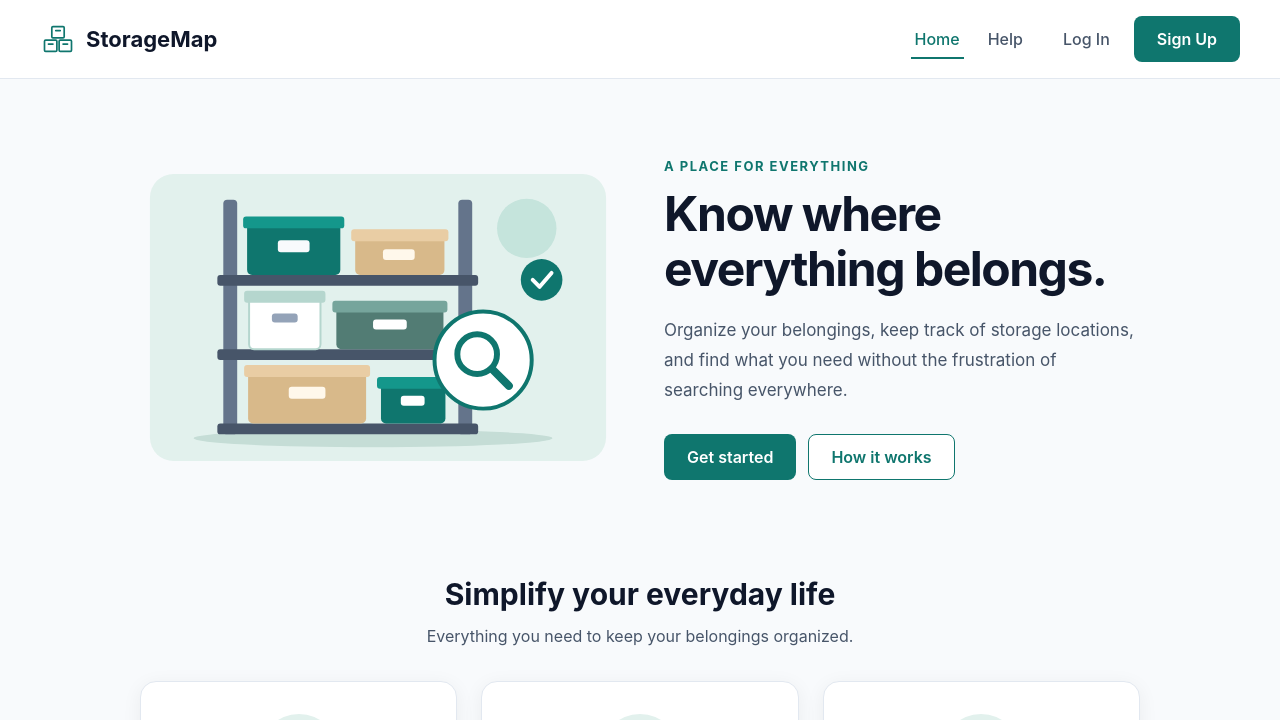
Scenario: opens the signup page when Get started is clicked
Step 1. Click the button "Get started" → (730, 457), box [664, 434, 796, 480]
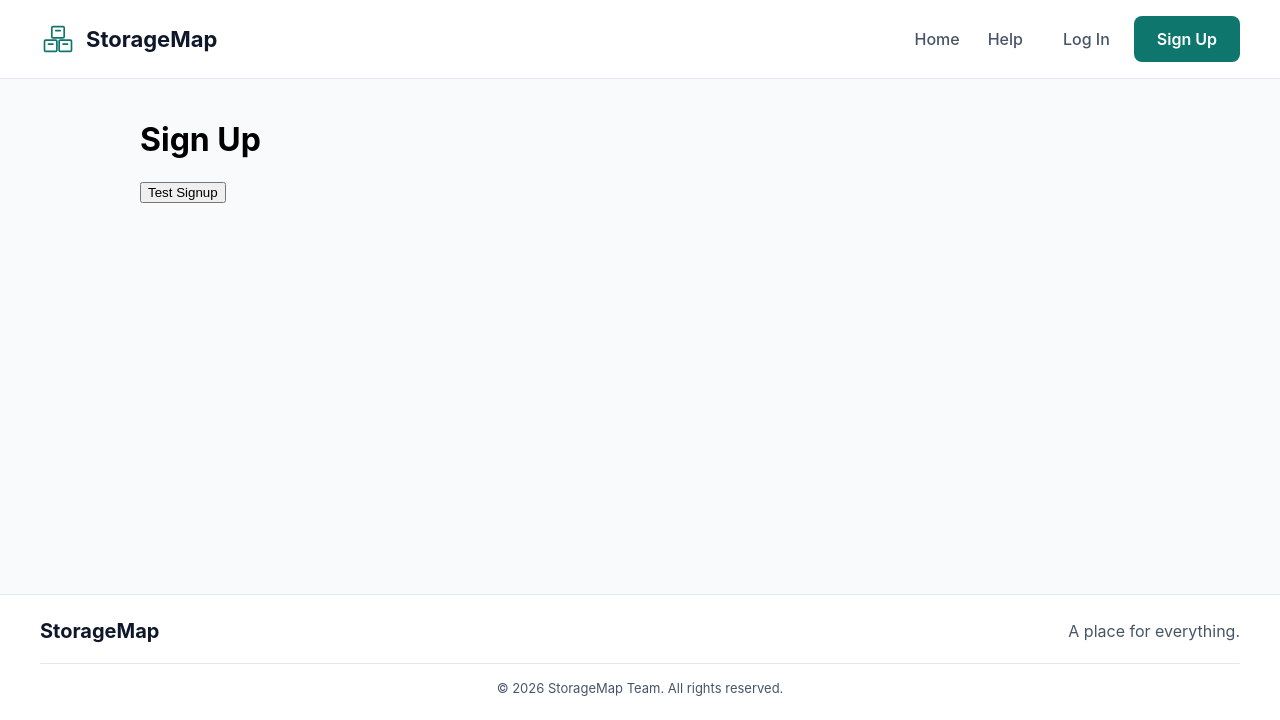
Expected: the heading "Sign Up" is shown, [140, 120, 261, 159]
